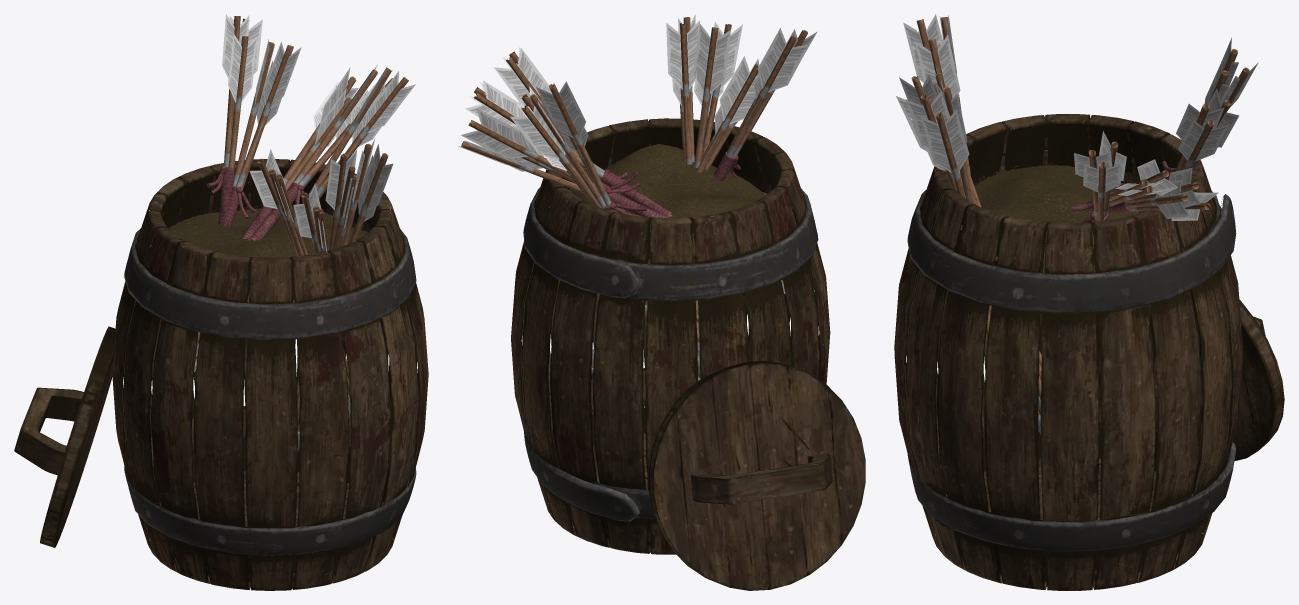
3 renders of one model, left to right at view 1: azimuth 30°, elevation 25°; view 2: azimuth 150°, elevation 25°; view 3: azimuth 270°, elevation 25°, orthographic. The views are drawn at different scales.
Visible parts, largest first — view 1: SM_Dec_Barrel_of_Arrows_LOD0; view 2: SM_Dec_Barrel_of_Arrows_LOD0; view 3: SM_Dec_Barrel_of_Arrows_LOD0.
Boxes of the visible parts, left/top/right/bottom form: SM_Dec_Barrel_of_Arrows_LOD0: left=14, top=14, right=428, bottom=590; SM_Dec_Barrel_of_Arrows_LOD0: left=458, top=14, right=865, bottom=590; SM_Dec_Barrel_of_Arrows_LOD0: left=894, top=14, right=1284, bottom=590.
Size of the model in its own units: 1.09 by 1.32 by 0.9052.
3 materials, 3 textured.
